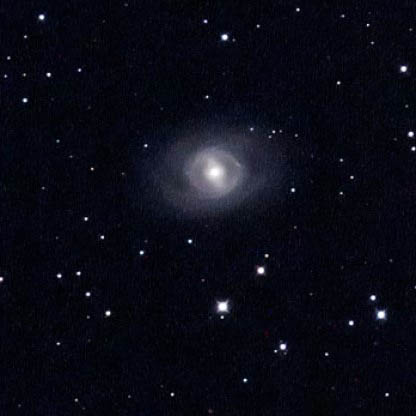Messier 95: (127, 116, 303, 232)
